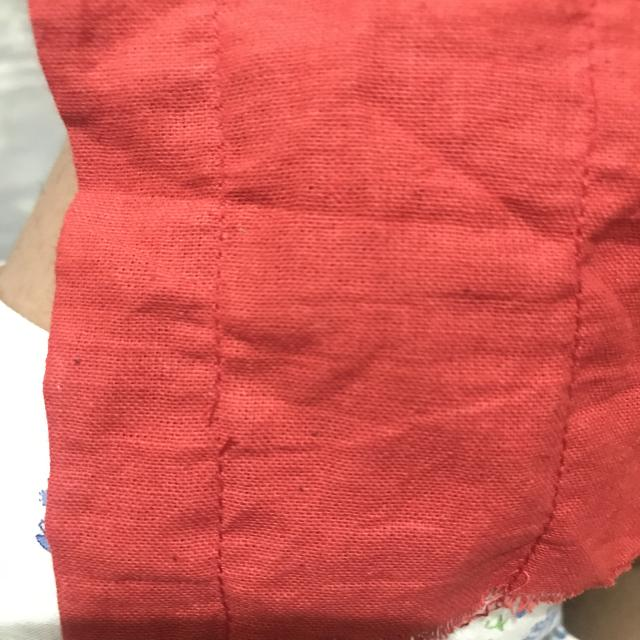broken: (193, 372, 244, 478)
